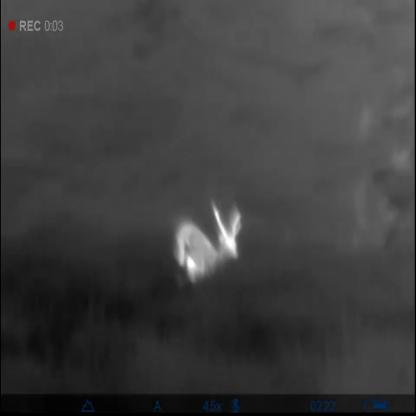rehkitze: (169, 203, 242, 285)
